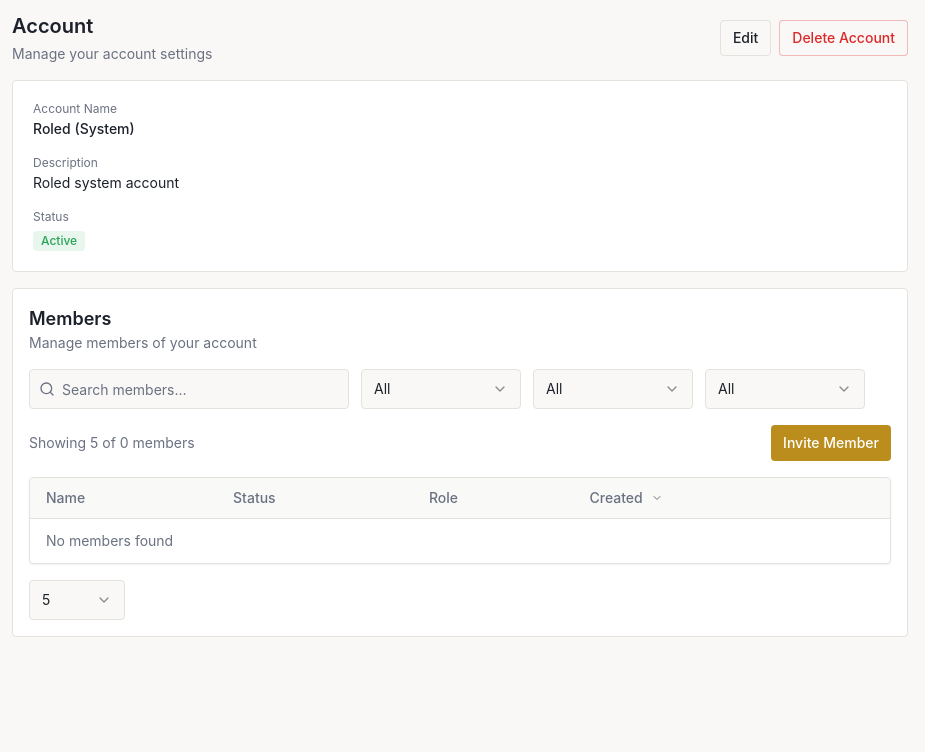
Test: Account Page › enters edit mode and allows editing name and description
Expected: the text "Roled (System)" is shown, [33,120,135,137]
Note: Click Edit button
Click the button "Edit" at (746, 38), box [720,20,771,56]
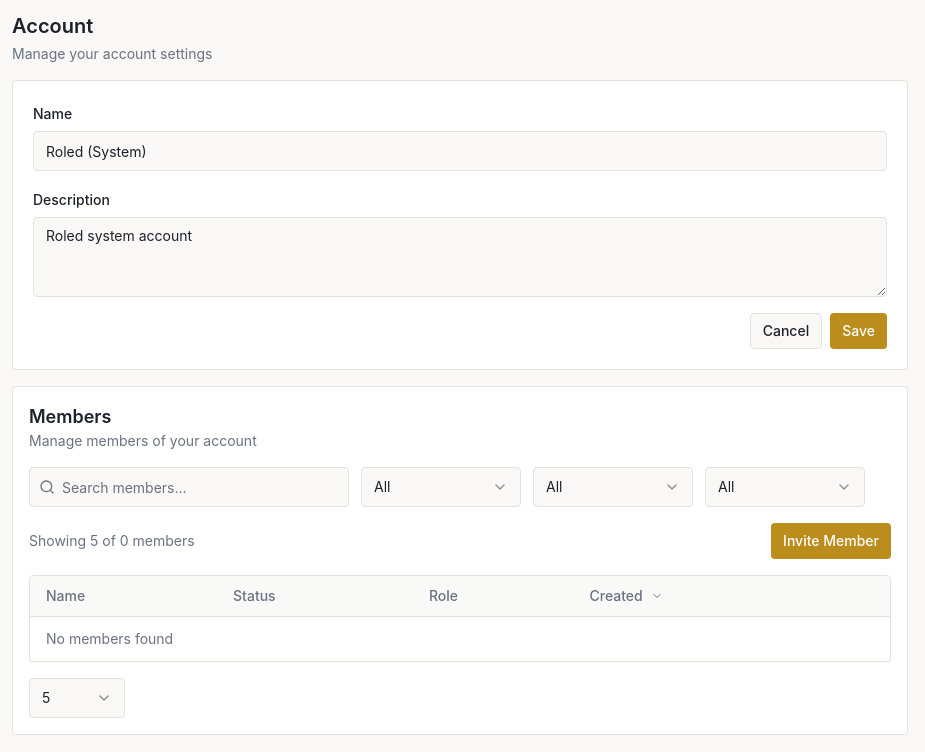
Now the field labelled "Name" holds "Roled (System)"
Now the text box labelled "Description" holds "Roled system account", box [33,217,887,297]
Note: Edit the name
Replace the text in the field labelled "Name" with "Updated Name" at (460, 151), box [33,131,887,171]
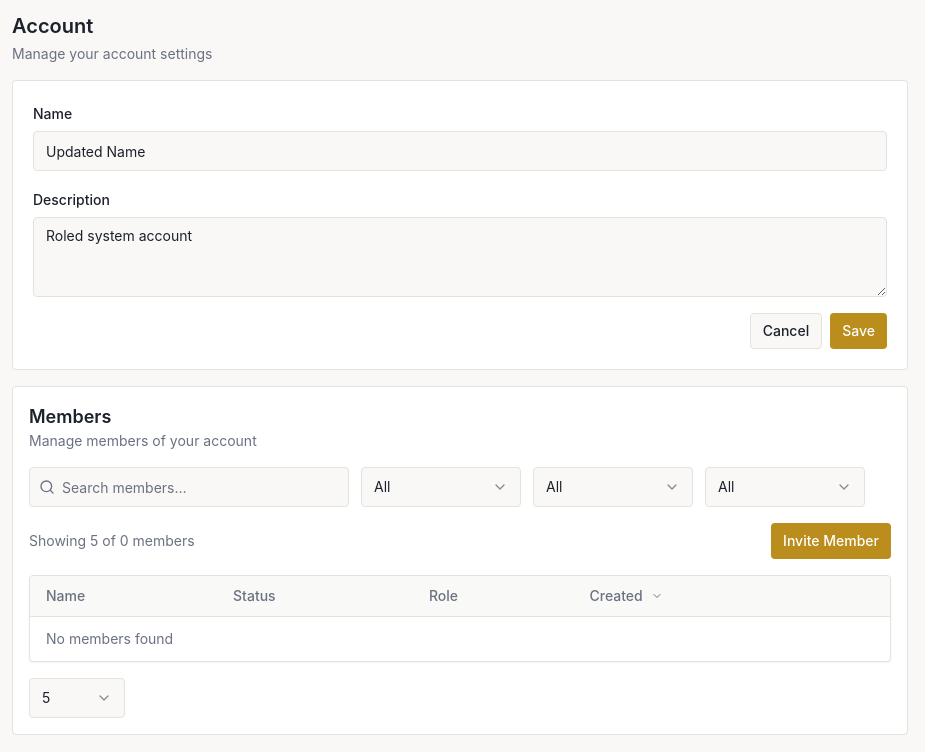
Note: Cancel should revert
Click the button "Cancel" at (786, 331), box [750,313,822,349]
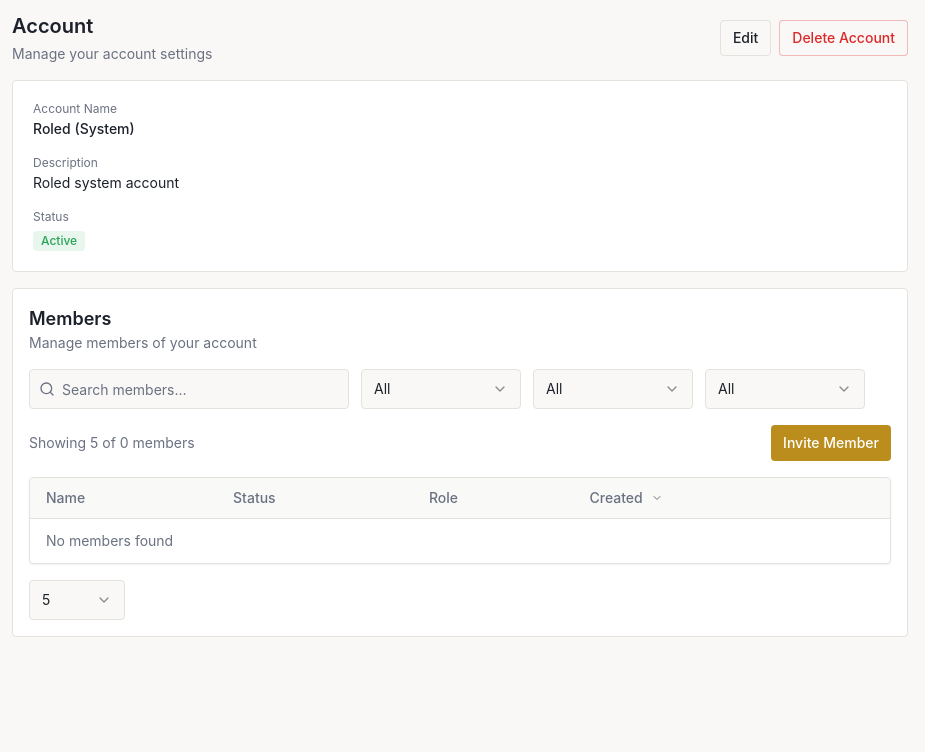
Now the text "Roled (System)" is shown, box [33,120,135,137]
